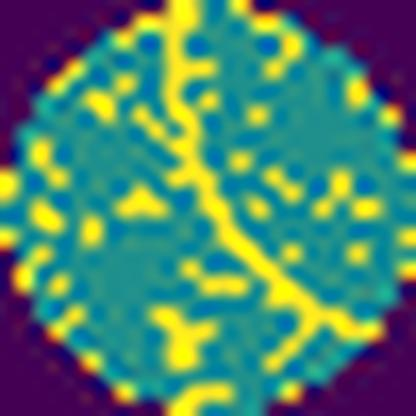Scratch: (112, 0, 385, 378)
